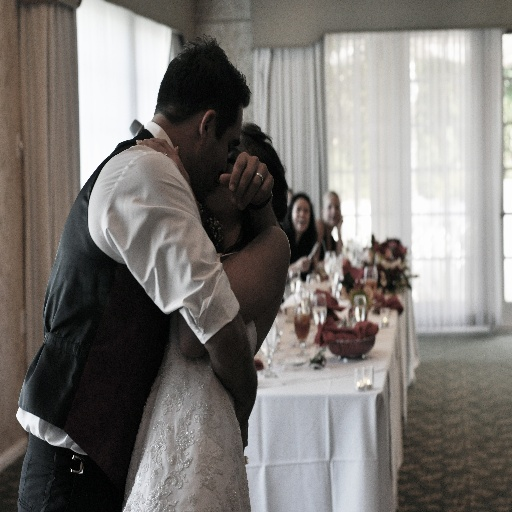hand: (222, 142, 273, 211), (132, 138, 192, 186), (296, 253, 311, 274), (242, 420, 248, 451), (336, 215, 343, 231)
